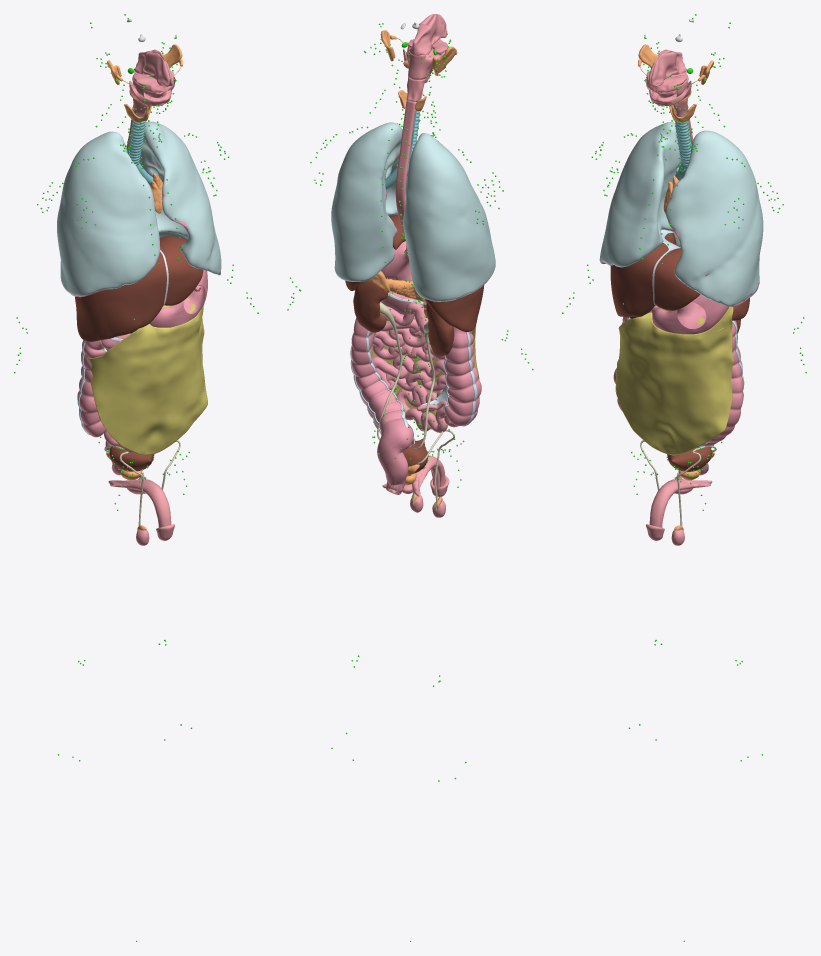
File: visceral.glb
The picture shows the model from 3 angles, left to right: view 1: azimuth 30°, elevation 25°; view 2: azimuth 150°, elevation 25°; view 3: azimuth 330°, elevation 25°; orthographic projection.
Visible parts, largest first — view 1: Pleura, Greater_omentum, Liver, Ascending_colon, Stomach, Corpus_cavernosum_of_penis, Gingiva, Mucosa_of_nasal_cavity, Urinary_bladder, Trachea; view 2: Pleura, Jejunum, Ascending_colon, Descending_colon, Sigmoid_colon, Liver, Kidney_Left, Oesophagus, Kidney_Right, Stomach, Oropharynx, Mesocolic_taenia (+4 smaller); view 3: Pleura, Greater_omentum, Liver, Stomach, Descending_colon, Corpus_cavernosum_of_penis, Gingiva, Mucosa_of_nasal_cavity, Urinary_bladder, Trachea.
Part boxes in pixels (<box>): Pleura: <box>57,121,221,296</box>; Greater_omentum: <box>87,300,207,455</box>; Liver: <box>75,236,203,341</box>; Ascending_colon: <box>77,340,106,437</box>; Stomach: <box>149,270,207,327</box>; Corpus_cavernosum_of_penis: <box>108,472,171,527</box>; Gingiva: <box>129,71,174,105</box>; Mucosa_of_nasal_cavity: <box>143,49,173,86</box>; Urinary_bladder: <box>109,445,154,471</box>; Trachea: <box>127,120,145,165</box>; Pleura: <box>331,122,495,301</box>; Jejunum: <box>372,306,458,432</box>; Ascending_colon: <box>444,327,481,425</box>; Descending_colon: <box>351,318,413,447</box>; Sigmoid_colon: <box>377,419,413,494</box>; Liver: <box>389,214,484,331</box>; Kidney_Left: <box>353,280,387,332</box>; Oesophagus: <box>395,100,416,254</box>; Kidney_Right: <box>426,303,454,356</box>; Stomach: <box>381,241,412,281</box>; Oropharynx: <box>406,46,445,79</box>; Mesocolic_taenia: <box>350,331,477,434</box>; Pleura: <box>599,122,763,306</box>; Greater_omentum: <box>616,306,733,455</box>; Liver: <box>610,229,700,317</box>; Stomach: <box>651,294,728,334</box>; Descending_colon: <box>703,320,743,446</box>; Corpus_cavernosum_of_penis: <box>649,473,712,527</box>; Gingiva: <box>646,71,691,105</box>; Mucosa_of_nasal_cavity: <box>647,49,677,86</box>; Urinary_bladder: <box>667,447,711,471</box>; Trachea: <box>675,120,691,170</box>.
Size of the model in its own units: 45.23 by 162 by 20.12.
